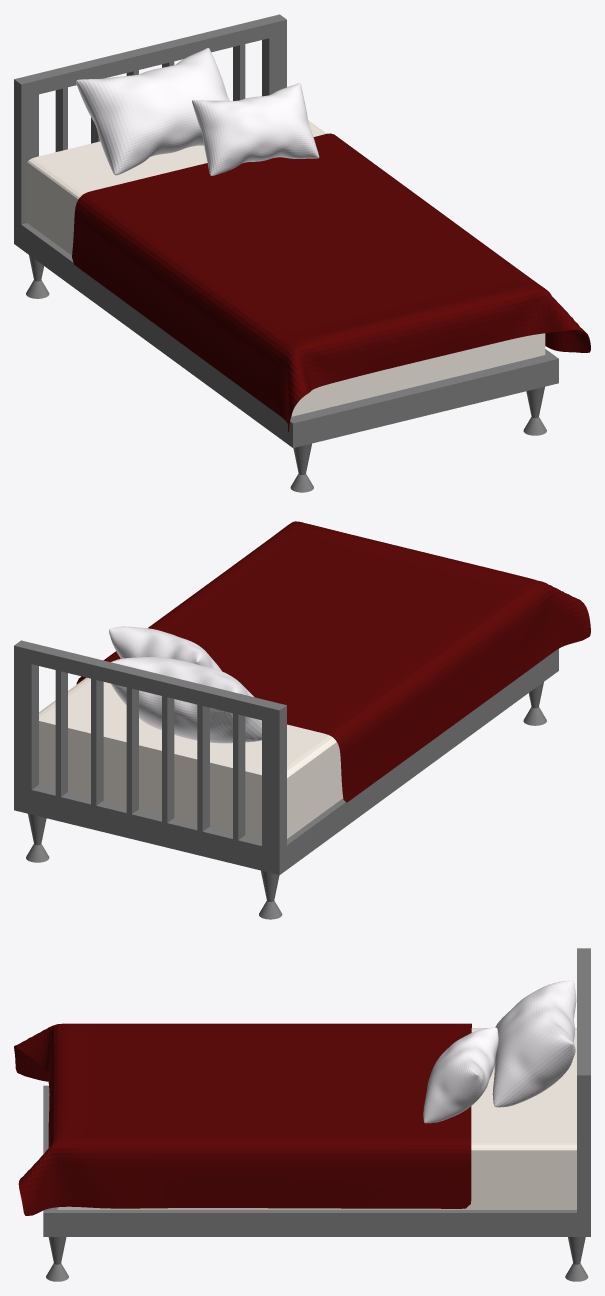
File: bed.fbx
The picture shows the model from 3 angles, top to bottom: view 1: azimuth 30°, elevation 25°; view 2: azimuth 150°, elevation 25°; view 3: azimuth 270°, elevation 25°; orthographic projection.
Parts seen in each view (by area): view 1: yatak; view 2: yatak; view 3: yatak.
Boxes of the visible parts, left/top/right/bottom form: yatak: left=14, top=14, right=590, bottom=492; yatak: left=14, top=521, right=590, bottom=919; yatak: left=14, top=948, right=590, bottom=1281.
Bounding box in the file's own units: 240 × 160 × 400.
